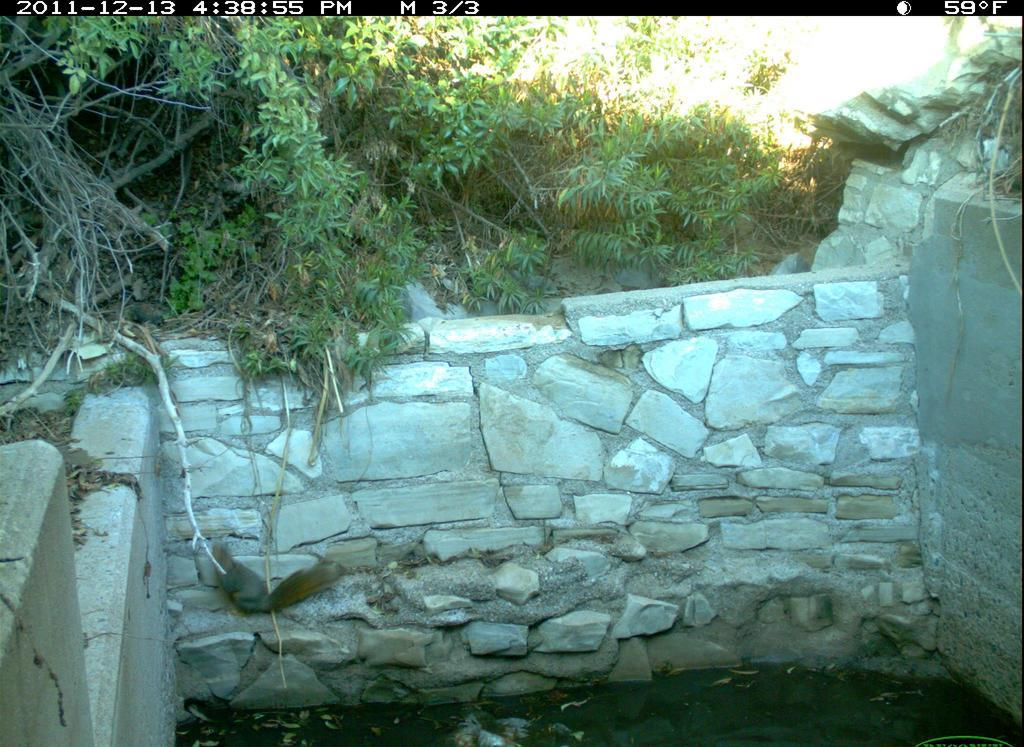squirrel: (199, 518, 370, 628)
